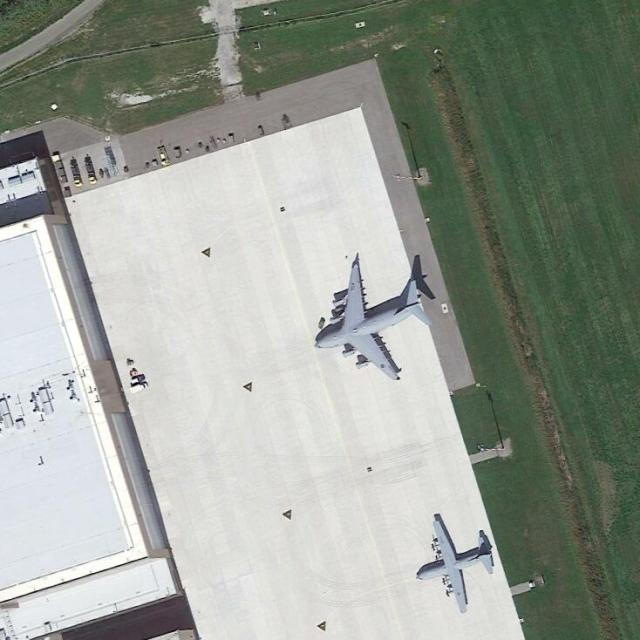fighter jet: (314, 258, 434, 382), (407, 512, 507, 609)
